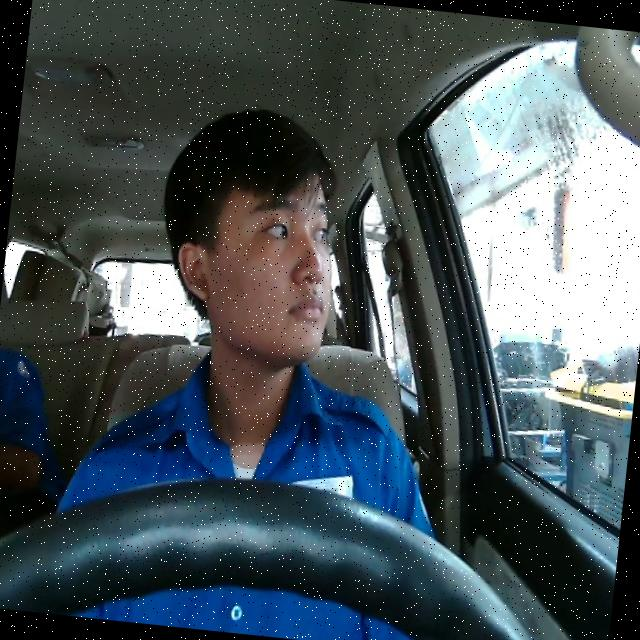seeing_right: (166, 152, 346, 368)
